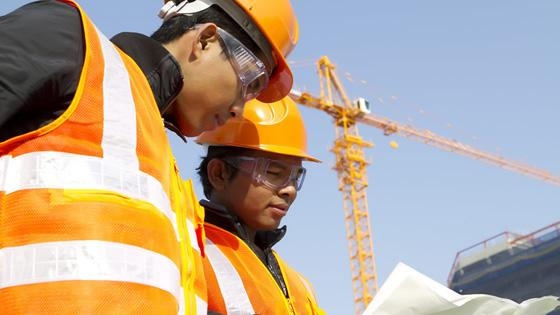helmet: (160, 1, 327, 102), (200, 102, 325, 163)
